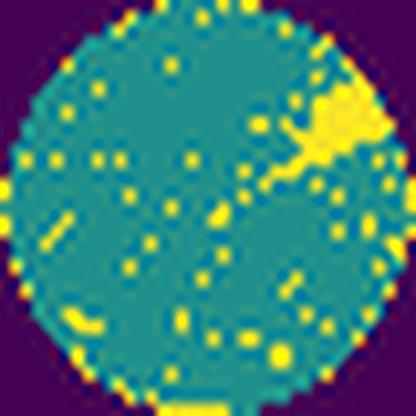Loc: (255, 64, 391, 194)
